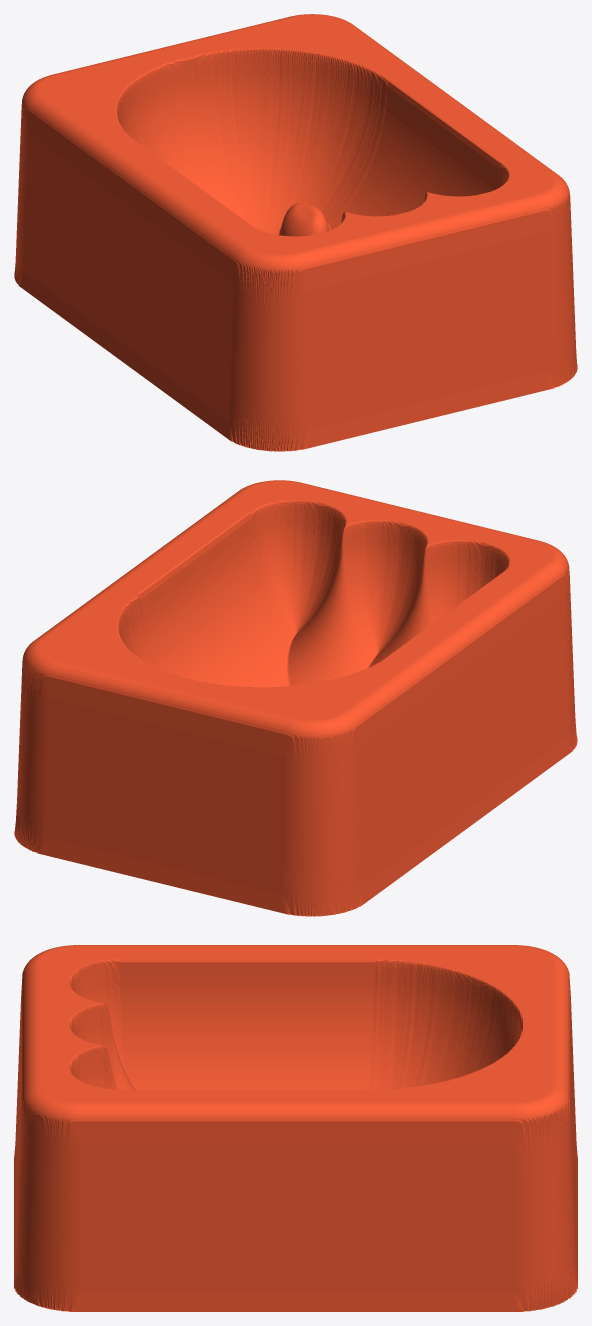
File: mold.glb
3 views of the same model, one above another, from view 1: azimuth 30°, elevation 25°; view 2: azimuth 150°, elevation 25°; view 3: azimuth 270°, elevation 25° (orthographic). The views are drawn at different scales.
Parts seen in each view (by area): view 1: geometry_0; view 2: geometry_0; view 3: geometry_0.
Boxes of the visible parts, x1,y1,x2,y2 form: geometry_0: [14, 14, 577, 451]; geometry_0: [14, 480, 577, 916]; geometry_0: [14, 945, 577, 1311].
Size of the model in its own units: 0.0594 by 0.031 by 0.0798.
